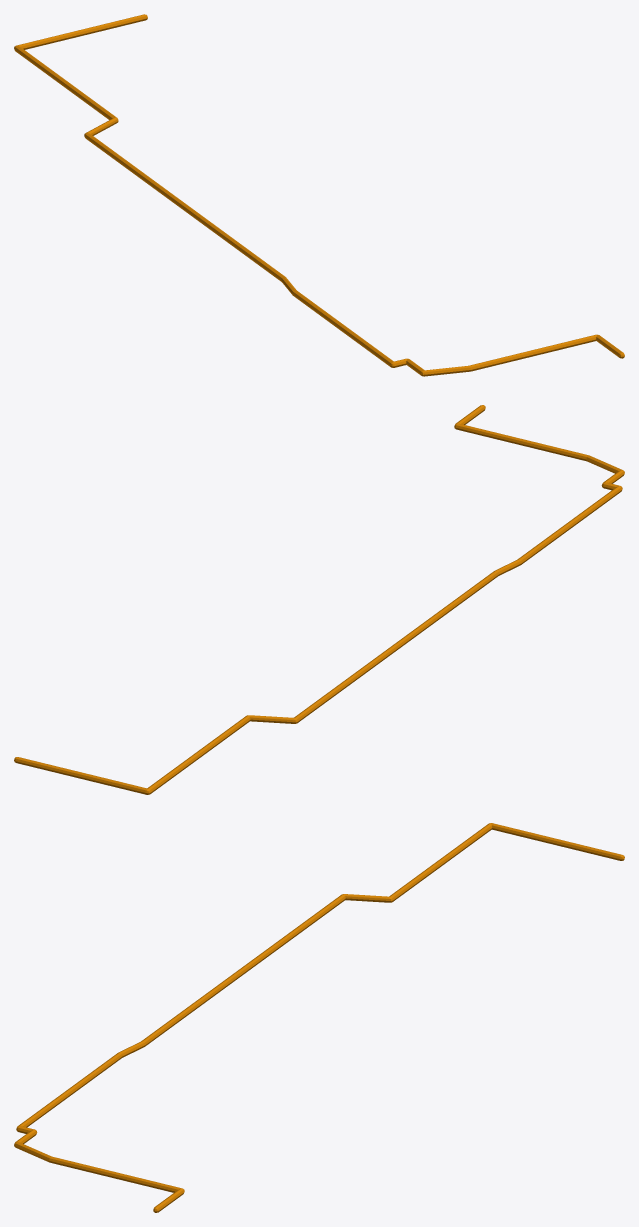
The picture shows the model from 3 angles, top to bottom: view 1: azimuth 30°, elevation 25°; view 2: azimuth 150°, elevation 25°; view 3: azimuth 330°, elevation 25°; orthographic projection. The views are drawn at different scales.
Size of the model in its own units: 658 by 20 by 2863.
